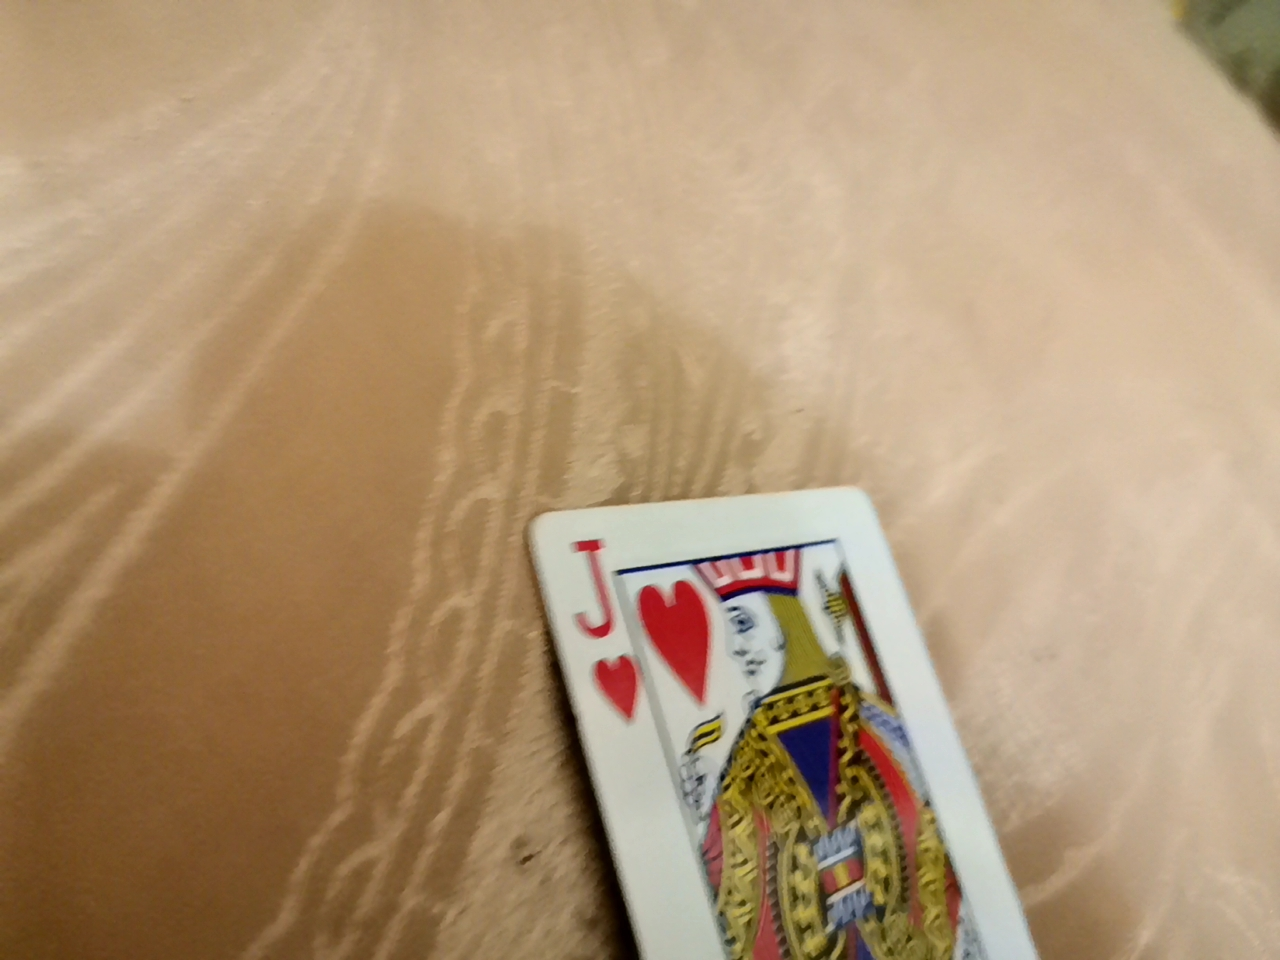hx j: (526, 467, 1057, 960)
